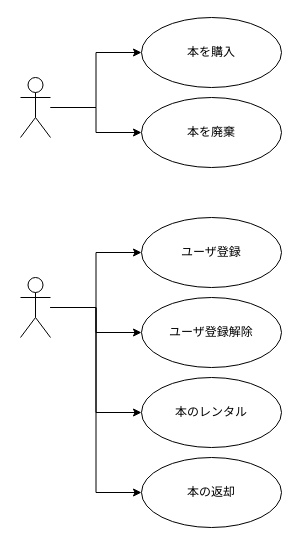
This 299x545 diagram has some shape labels left out. The shapes that lost their labels are listed below. From the top down, each one's centre as x and y in pixels, then its label:
the point at 35,107: 管理者
the point at 35,307: 利用者
